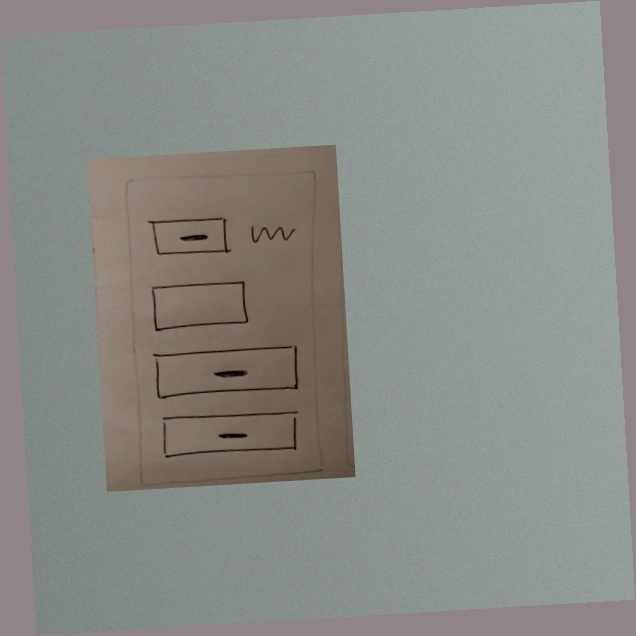button: (149, 341, 304, 405), (155, 405, 307, 462), (146, 212, 239, 264)
text: (249, 219, 298, 251)
text_input: (148, 276, 252, 335)
